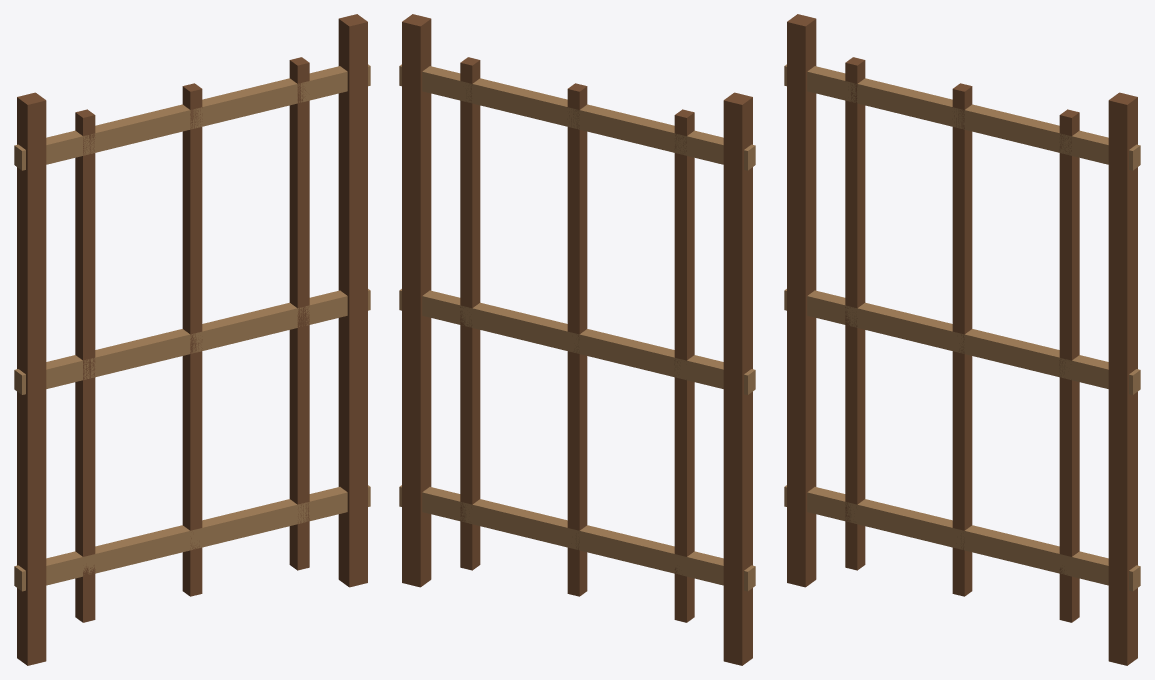
Rendered from garden_trellis.glb.
3 renders of one model, left to right at view 1: azimuth 30°, elevation 25°; view 2: azimuth 150°, elevation 25°; view 3: azimuth 330°, elevation 25°, orthographic.
Parts seen in each view (by area): view 1: garden_trellis; view 2: garden_trellis; view 3: garden_trellis.
Boxes of the visible parts, x1,y1,x2,y2 form: garden_trellis: [14, 14, 370, 665]; garden_trellis: [399, 14, 755, 665]; garden_trellis: [784, 14, 1140, 665].
Size of the model in its own units: 1.3 by 2 by 0.07.
